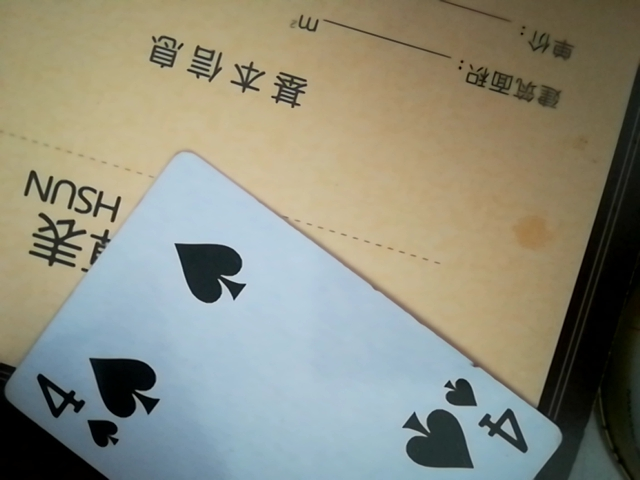ht 4: (4, 154, 556, 479)
